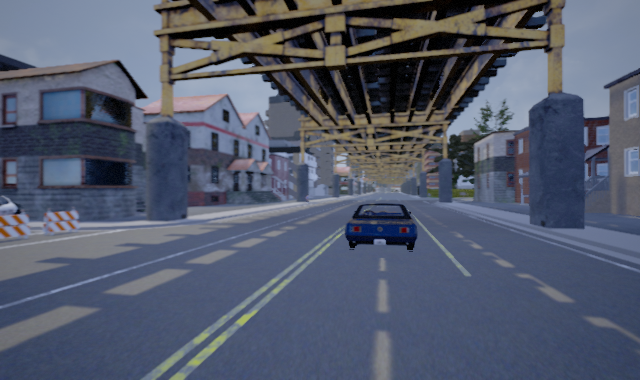vehicle: (344, 202, 417, 251)
